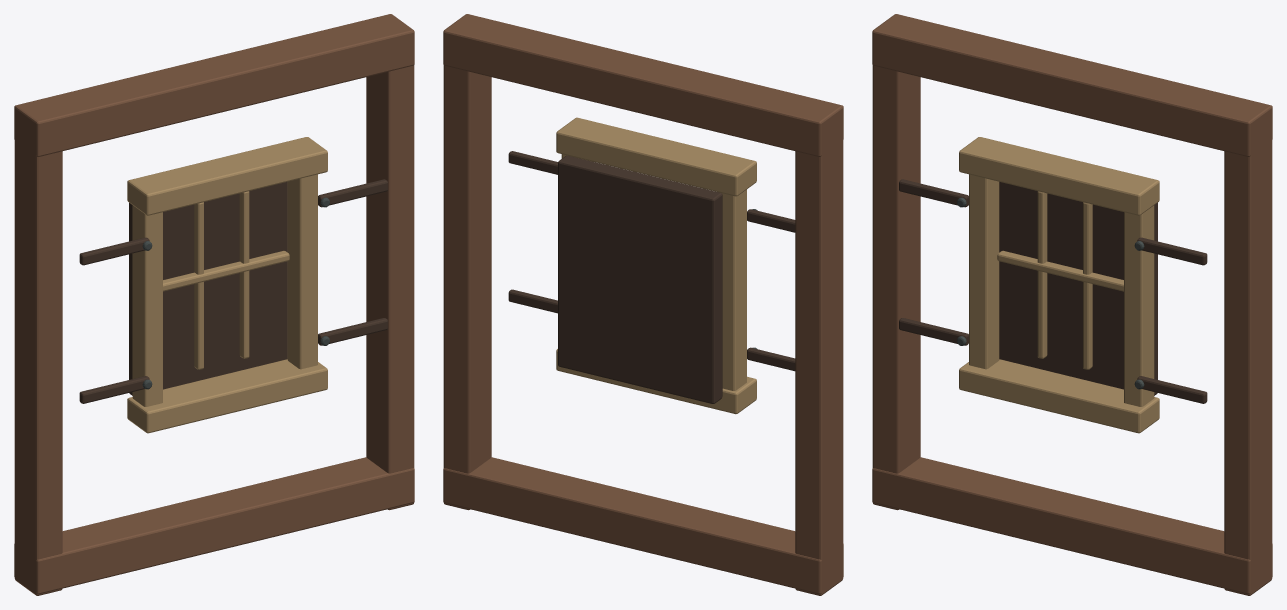
Rendered from wall_window_2m__structure.glb.
3 views of the same model, side by side, from view 1: azimuth 30°, elevation 25°; view 2: azimuth 150°, elevation 25°; view 3: azimuth 330°, elevation 25° (orthographic).
Parts seen in each view (by area): view 1: wall_window_2m__structure__mesh_00; view 2: wall_window_2m__structure__mesh_00; view 3: wall_window_2m__structure__mesh_00.
Boxes of the visible parts, <box> form: wall_window_2m__structure__mesh_00: <box>14,14,414,595</box>; wall_window_2m__structure__mesh_00: <box>443,14,843,595</box>; wall_window_2m__structure__mesh_00: <box>872,14,1272,595</box>.
Size of the model in its own units: 2 by 2.4 by 0.325.
